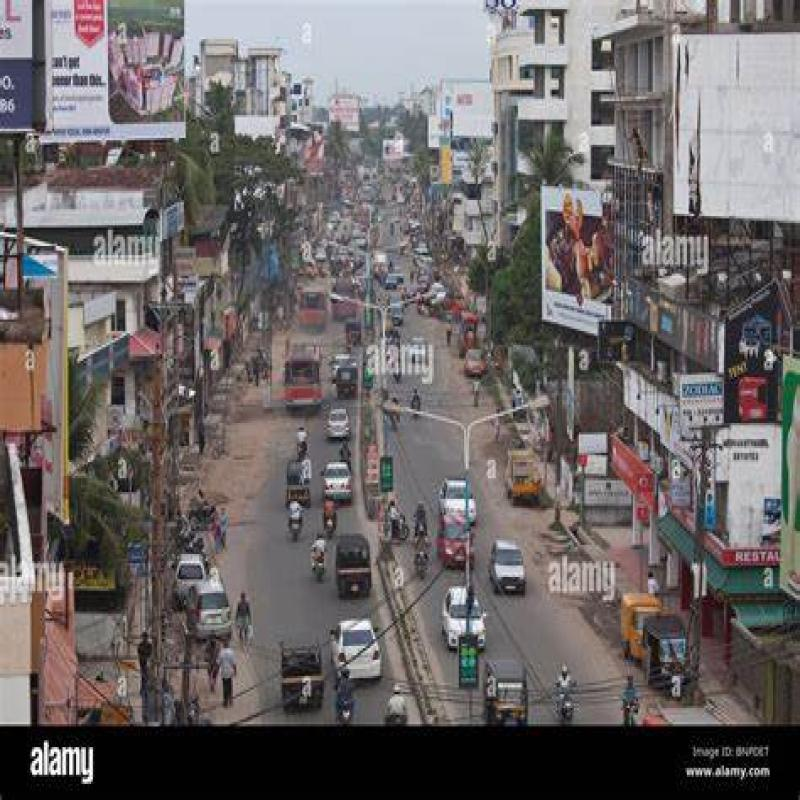car: (435, 573, 490, 658), (332, 612, 388, 689), (191, 582, 239, 645), (439, 472, 490, 528), (320, 450, 361, 510), (492, 548, 532, 602), (324, 412, 358, 454)
